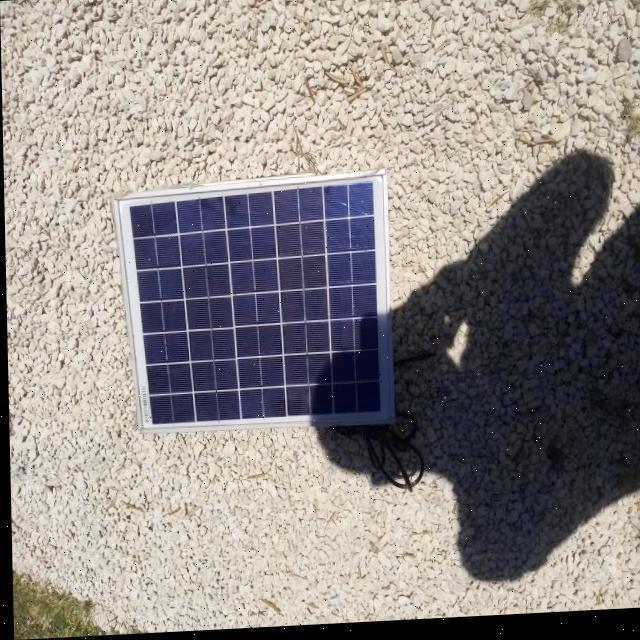Normal Solar Panel: (114, 174, 390, 436)
